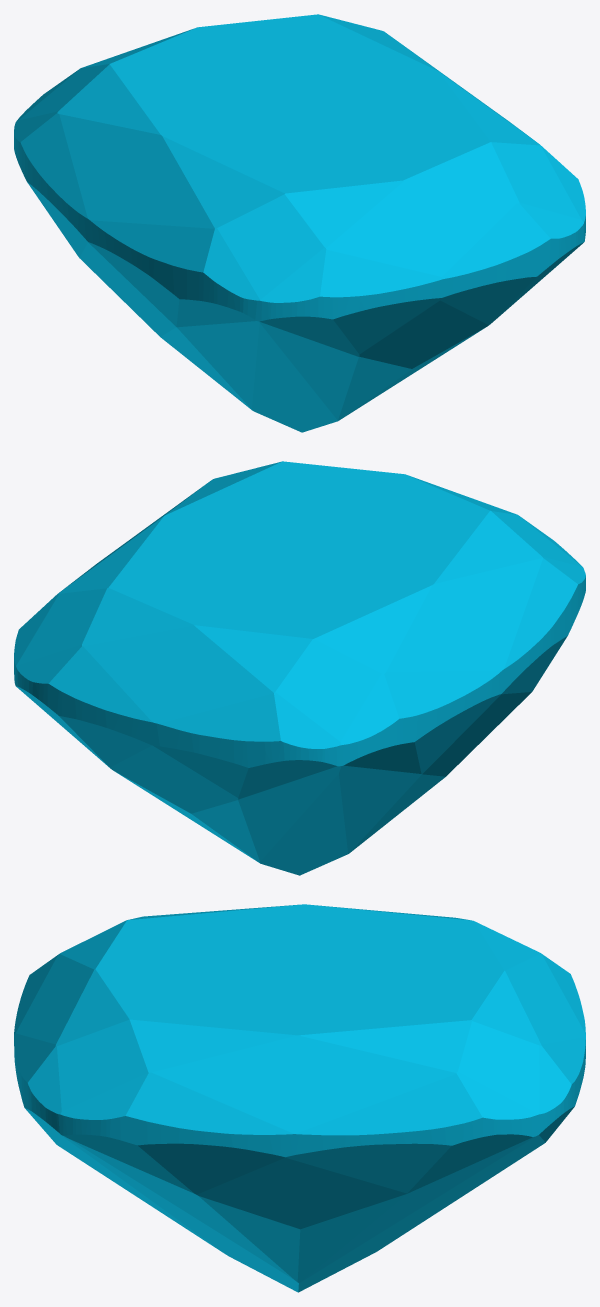
File: Head_Single Halo_Elongated Cushion_3.0ct_Diamond.glb
The picture shows the model from 3 angles, top to bottom: view 1: azimuth 30°, elevation 25°; view 2: azimuth 150°, elevation 25°; view 3: azimuth 270°, elevation 25°; orthographic projection.
Size of the model in its own units: 0.00736 by 0.00557 by 0.00896.
